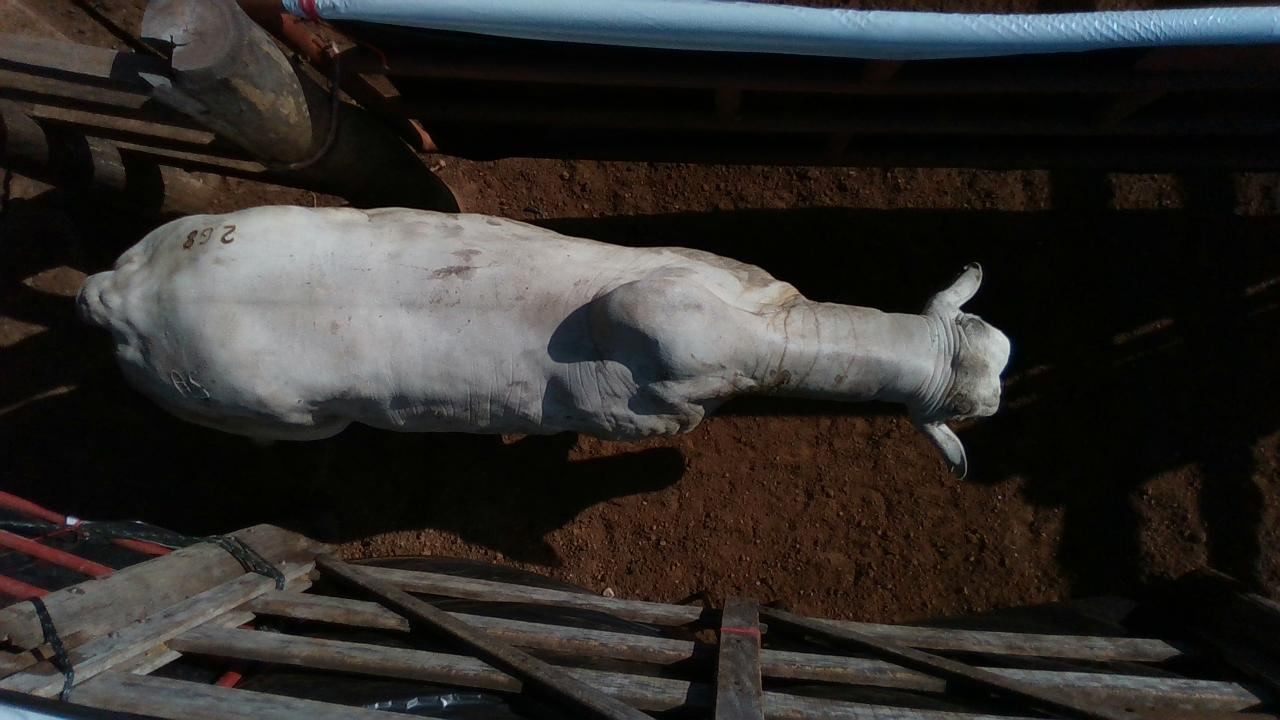cattle: (74, 201, 1013, 481)
